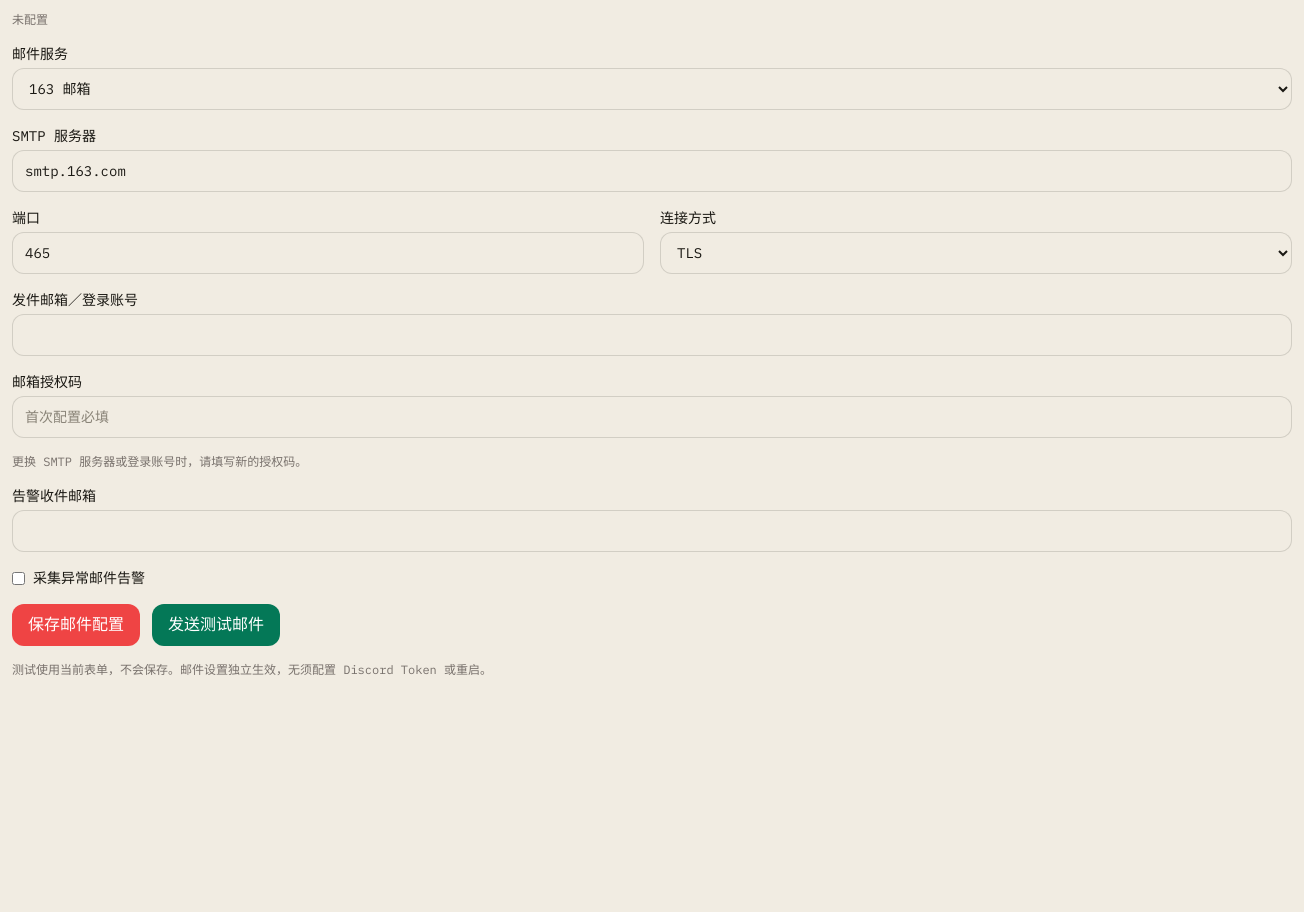
configures mail without Discord and preserves disabled alerts
Type "sender@example.com" into the field labelled "发件邮箱／登录账号".
click(652, 335); type("sender@example.com")  # box [12,314,1292,356]
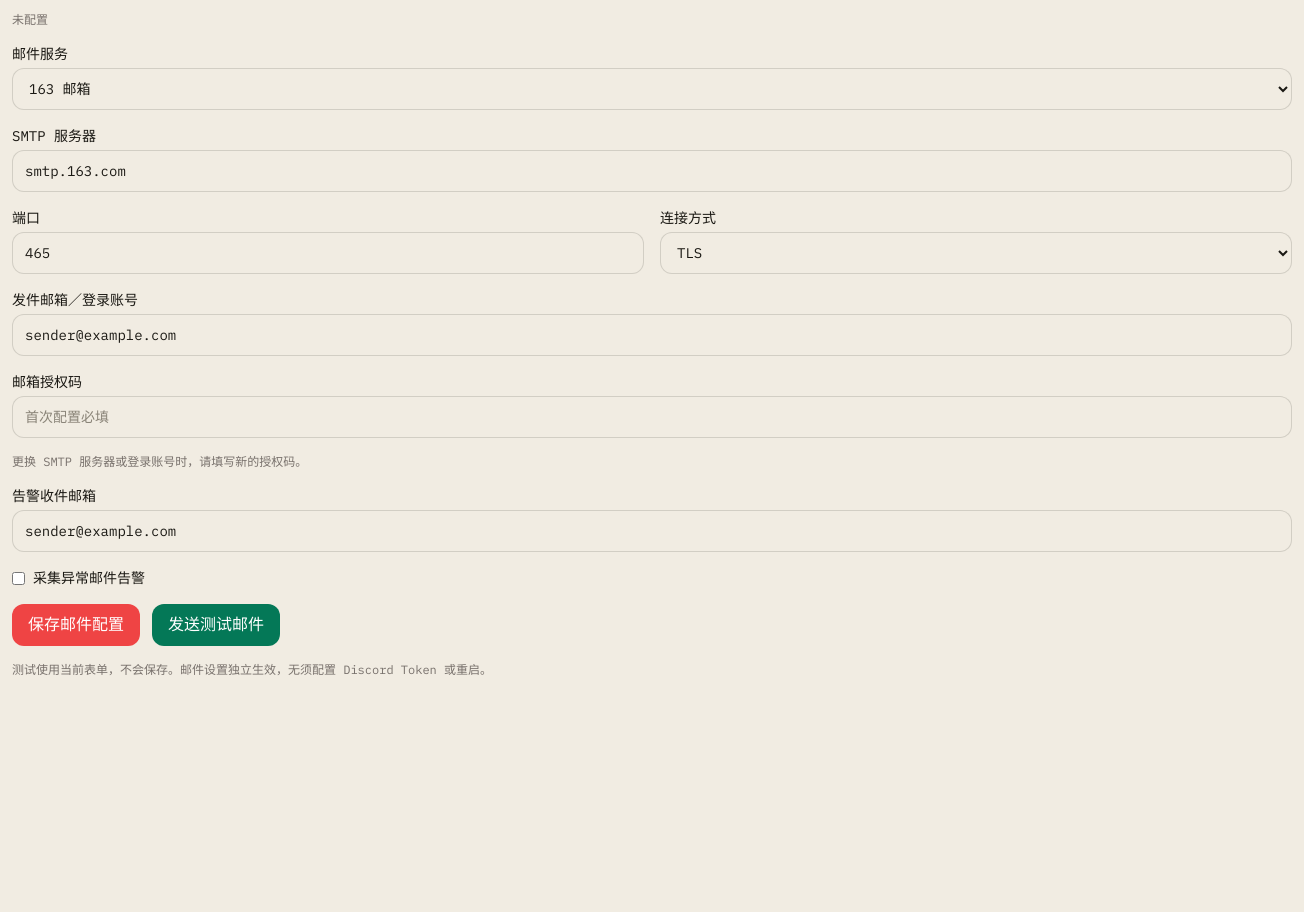
Result: the field labelled "告警收件邮箱" holds "sender@example.com"
Replace the text in the field labelled "告警收件邮箱" with "recipient@example.com" at (652, 531), box [12,510,1292,552]
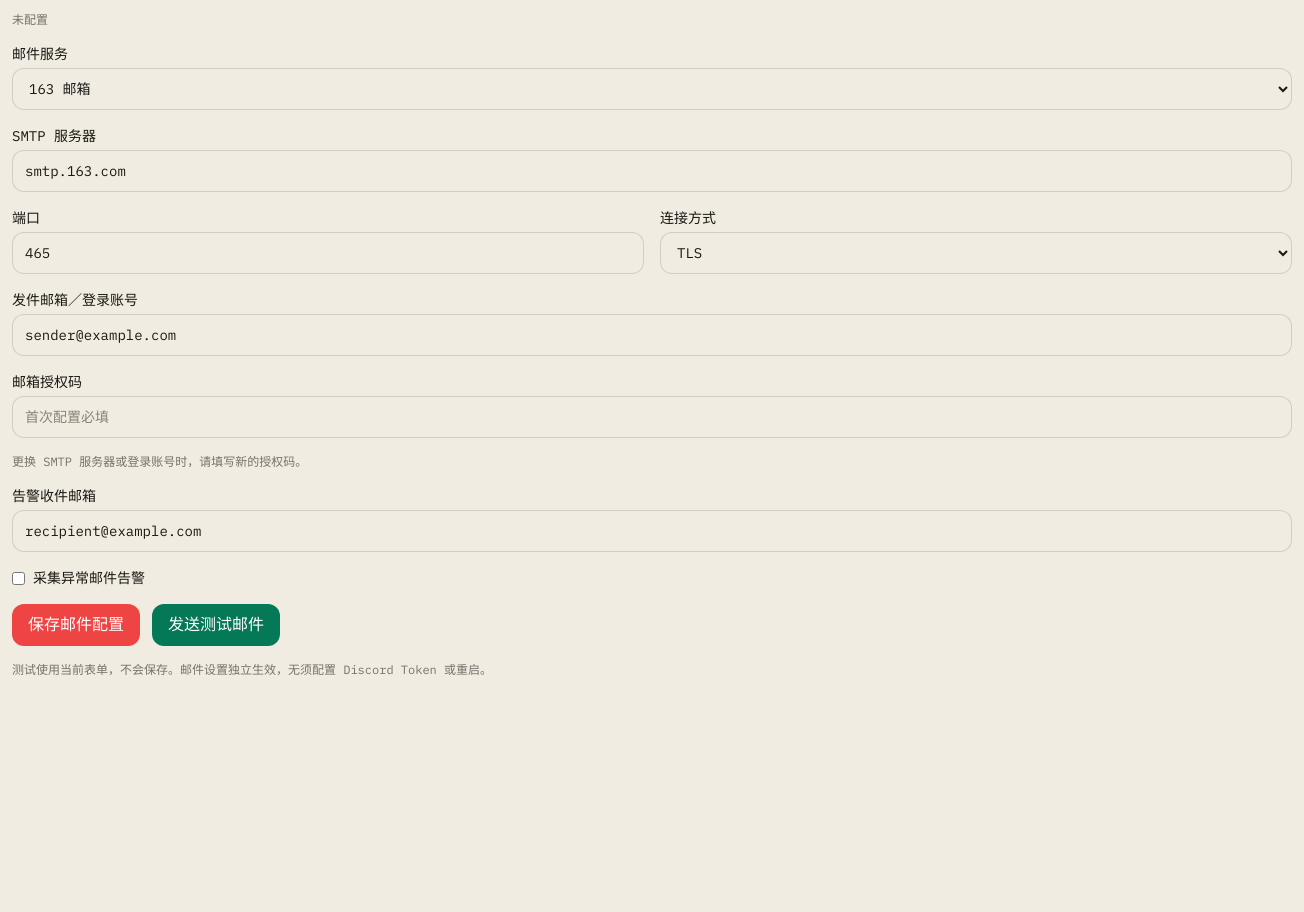
Replace the text in the field labelled "发件邮箱／登录账号" with "other@example.com" at (652, 335), box [12,314,1292,356]
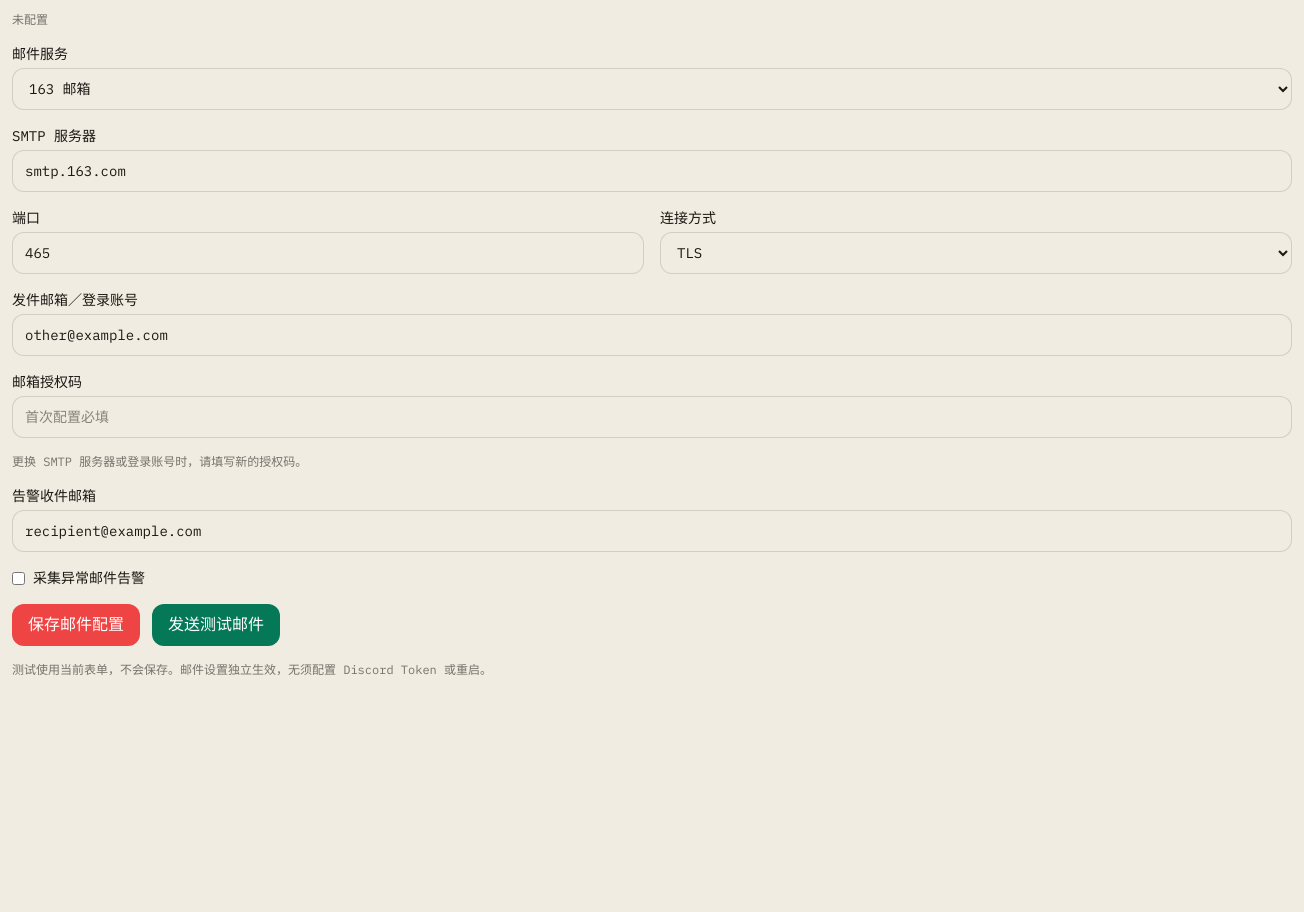
Type "test-only-secret" into the password field labelled "邮箱授权码".
click(652, 417); type("test-only-secret")  # box [12,396,1292,438]
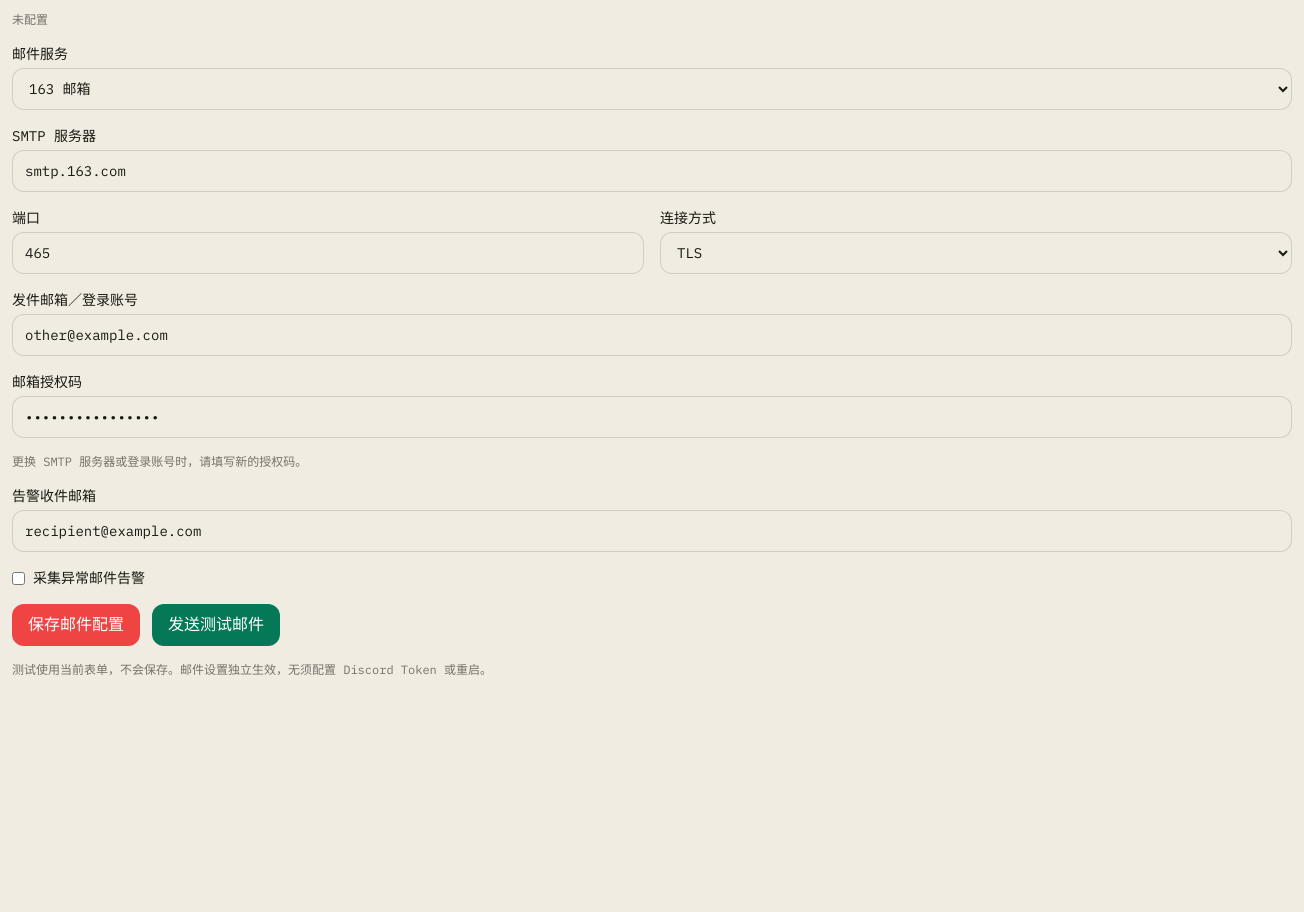
Click the button "保存邮件配置".
click(76, 625)  # box [12,604,140,646]
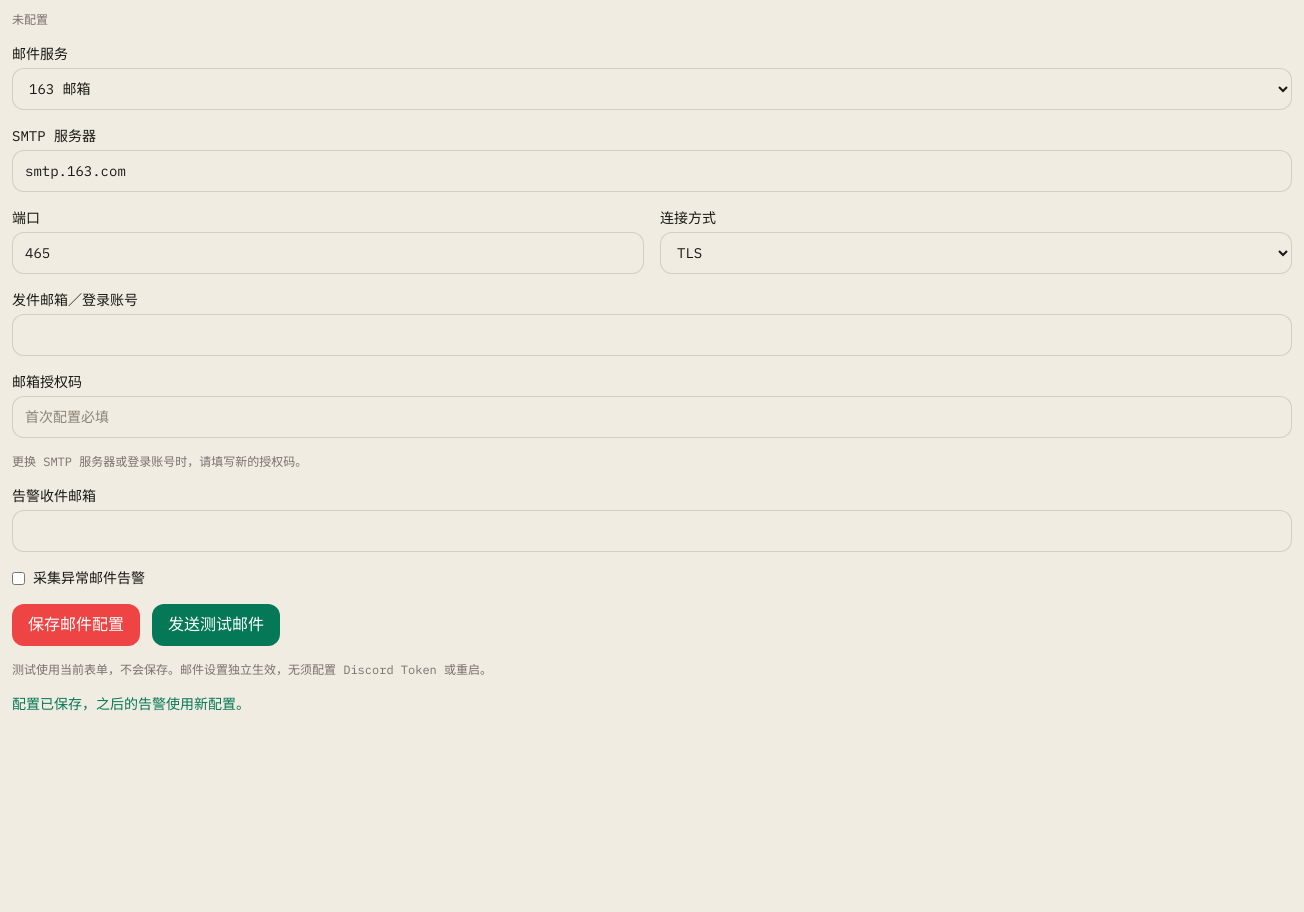
Result: the text "配置已保存，之后的告警使用新配置。" is shown at [12,695,250,713]
Result: the password field labelled "邮箱授权码" is empty at [12,396,1292,438]
